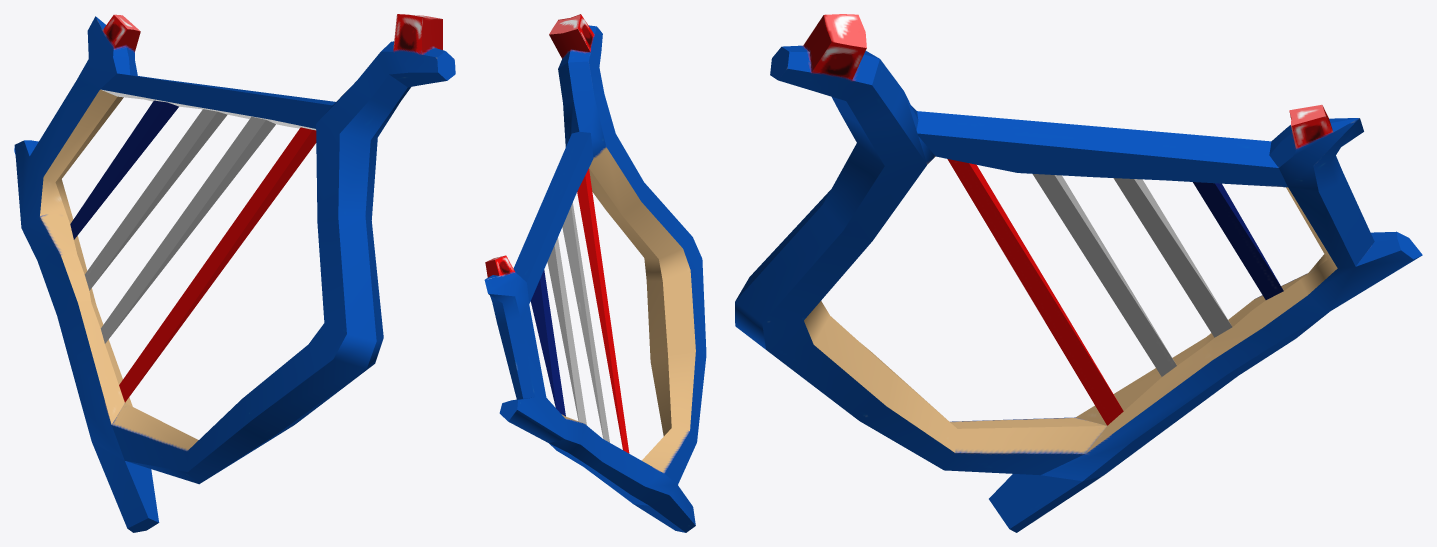
File: Arpa2_000007.obj
3 views of the same model, side by side, from view 1: azimuth 30°, elevation 25°; view 2: azimuth 150°, elevation 25°; view 3: azimuth 270°, elevation 25° (orthographic). The views are drawn at different scales.
Parts seen in each view (by area): view 1: a2_Arpa_1:pCube7; view 2: a2_Arpa_1:pCube7; view 3: a2_Arpa_1:pCube7.
Boxes of the visible parts, left/top/right/bottom form: a2_Arpa_1:pCube7: left=14, top=14, right=455, bottom=532; a2_Arpa_1:pCube7: left=484, top=14, right=706, bottom=532; a2_Arpa_1:pCube7: left=735, top=14, right=1422, bottom=532.
Bounding box in the file's own units: 3.64 × 7.48 × 7.37.
